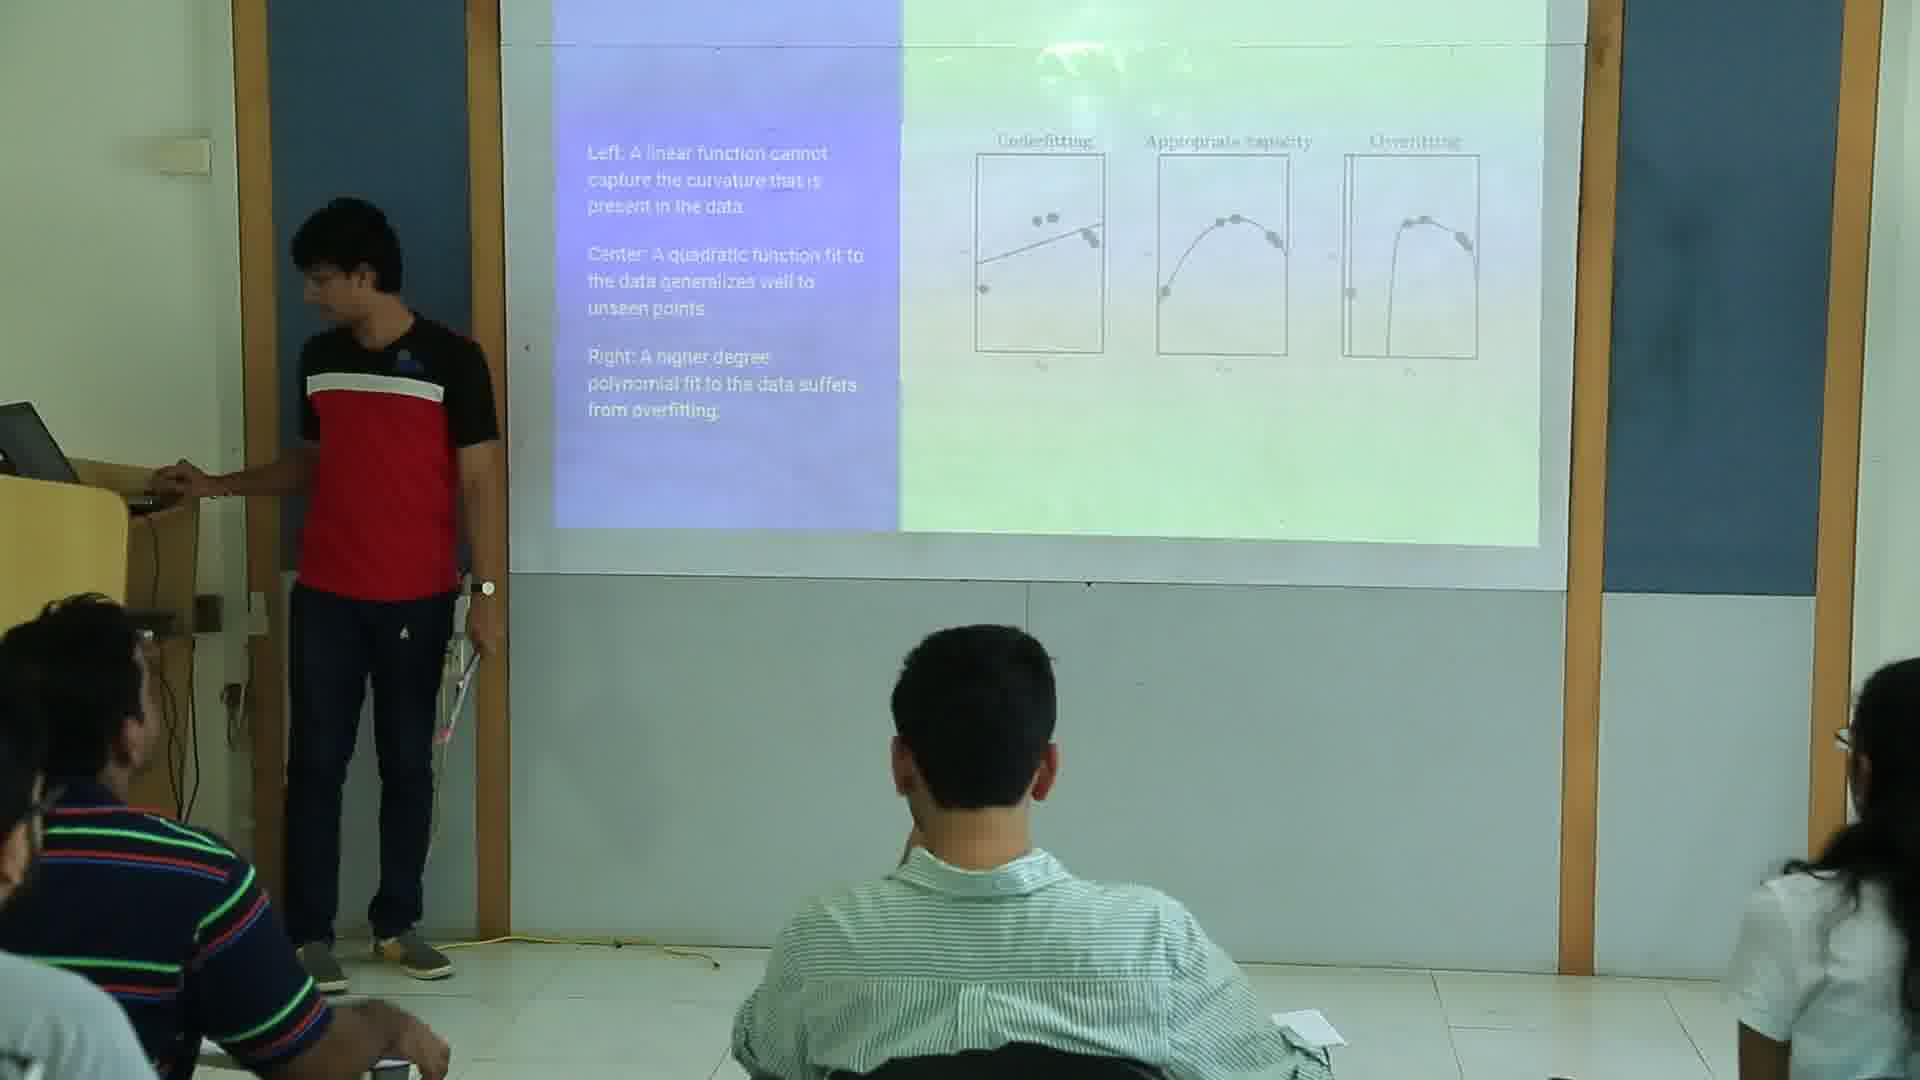fig: (1335, 125, 1487, 384), (965, 123, 1120, 378)
